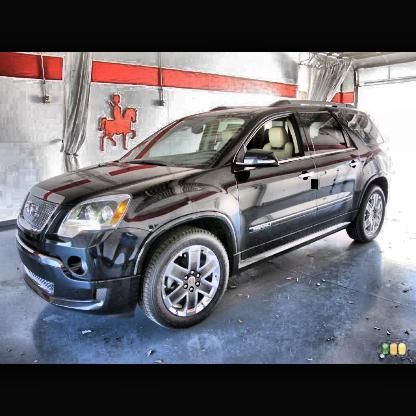GMC Acadia SUV 2012: (15, 99, 391, 332)
